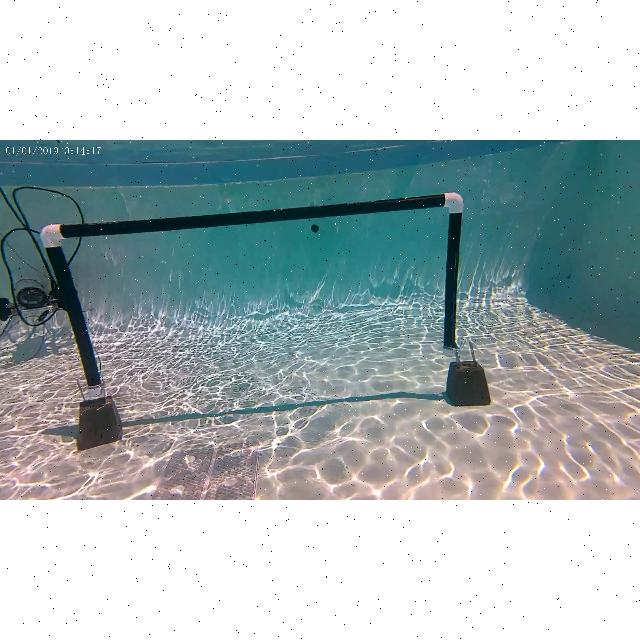prequal gate: (42, 190, 466, 400)
prequal gate leg l: (38, 222, 108, 400)
prequal gate leg r: (432, 187, 468, 367)
